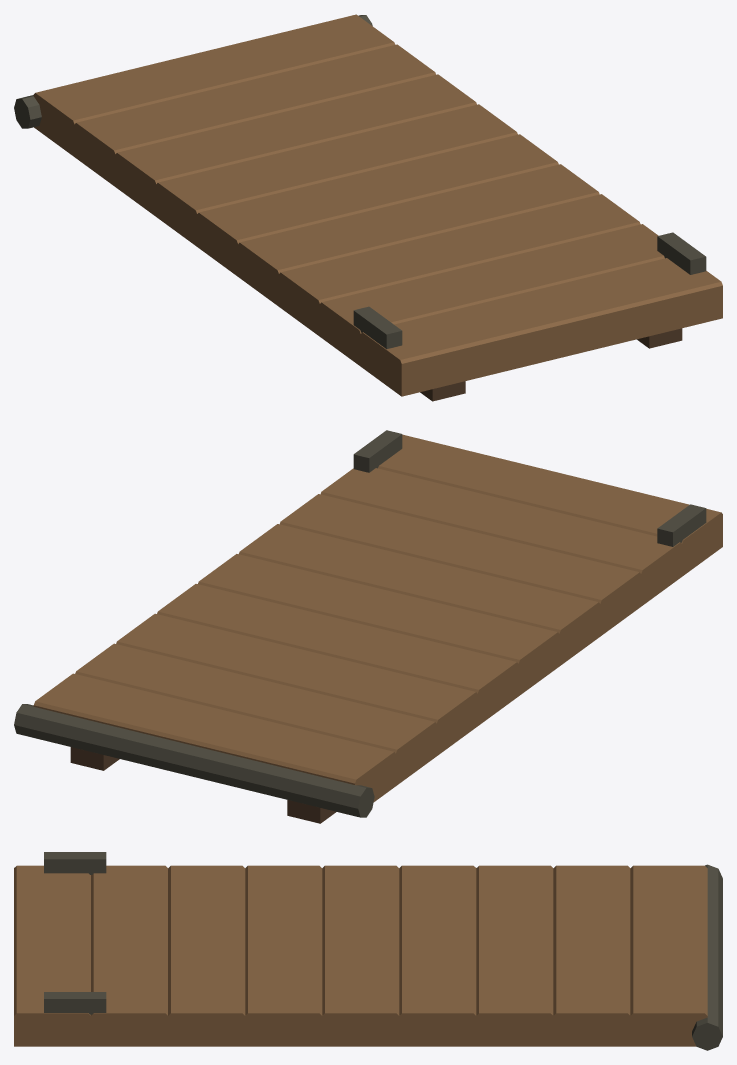
Rendered from drawbridge_leaf.glb.
3 renders of one model, top to bottom at view 1: azimuth 30°, elevation 25°; view 2: azimuth 150°, elevation 25°; view 3: azimuth 270°, elevation 25°, orthographic. The views are drawn at different scales.
Parts seen in each view (by area): view 1: Drawbridge leaf; view 2: Drawbridge leaf; view 3: Drawbridge leaf.
Part boxes in pixels (<box>): Drawbridge leaf: <box>14,14,722,401</box>; Drawbridge leaf: <box>14,430,722,823</box>; Drawbridge leaf: <box>14,852,722,1050</box>.
Size of the model in its own units: 1.62 by 0.303 by 3.07.
